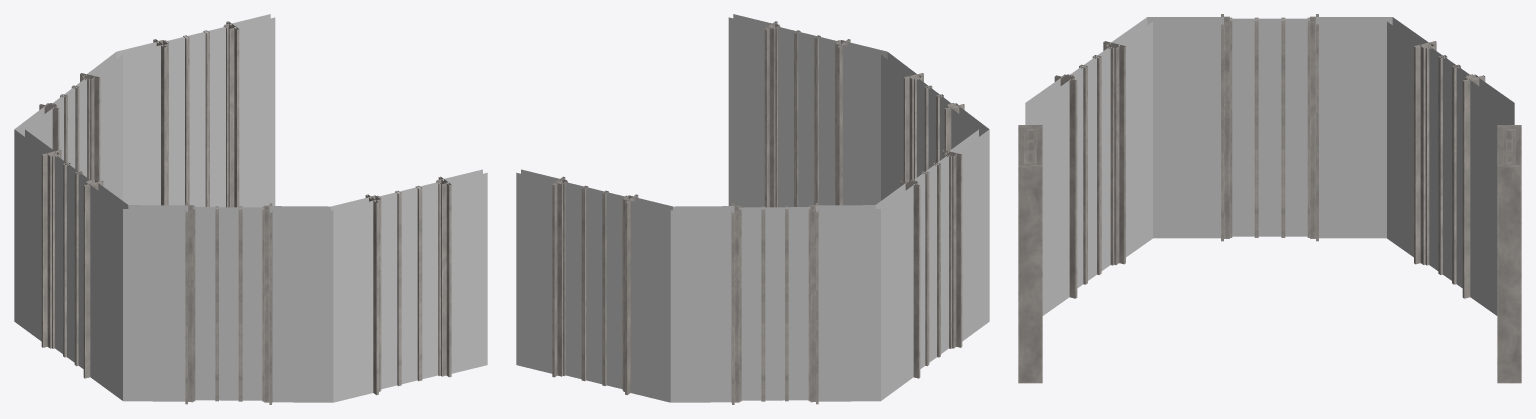
Rendered from Ambulatory_Inner_C_D.fbx.
The picture shows the model from 3 angles, left to right: view 1: azimuth 30°, elevation 25°; view 2: azimuth 150°, elevation 25°; view 3: azimuth 270°, elevation 25°; orthographic projection. The views are drawn at different scales.
Parts seen in each view (by area): view 1: Ambulatory_Inner_C_D; view 2: Ambulatory_Inner_C_D; view 3: Ambulatory_Inner_C_D.
Part boxes in pixels (x1=…): Ambulatory_Inner_C_D: x1=14, y1=14, x2=487, y2=404; Ambulatory_Inner_C_D: x1=516, y1=14, x2=989, y2=404; Ambulatory_Inner_C_D: x1=1018, y1=14, x2=1521, y2=383.
Size of the model in its own units: 10.31 by 12.61 by 6.
